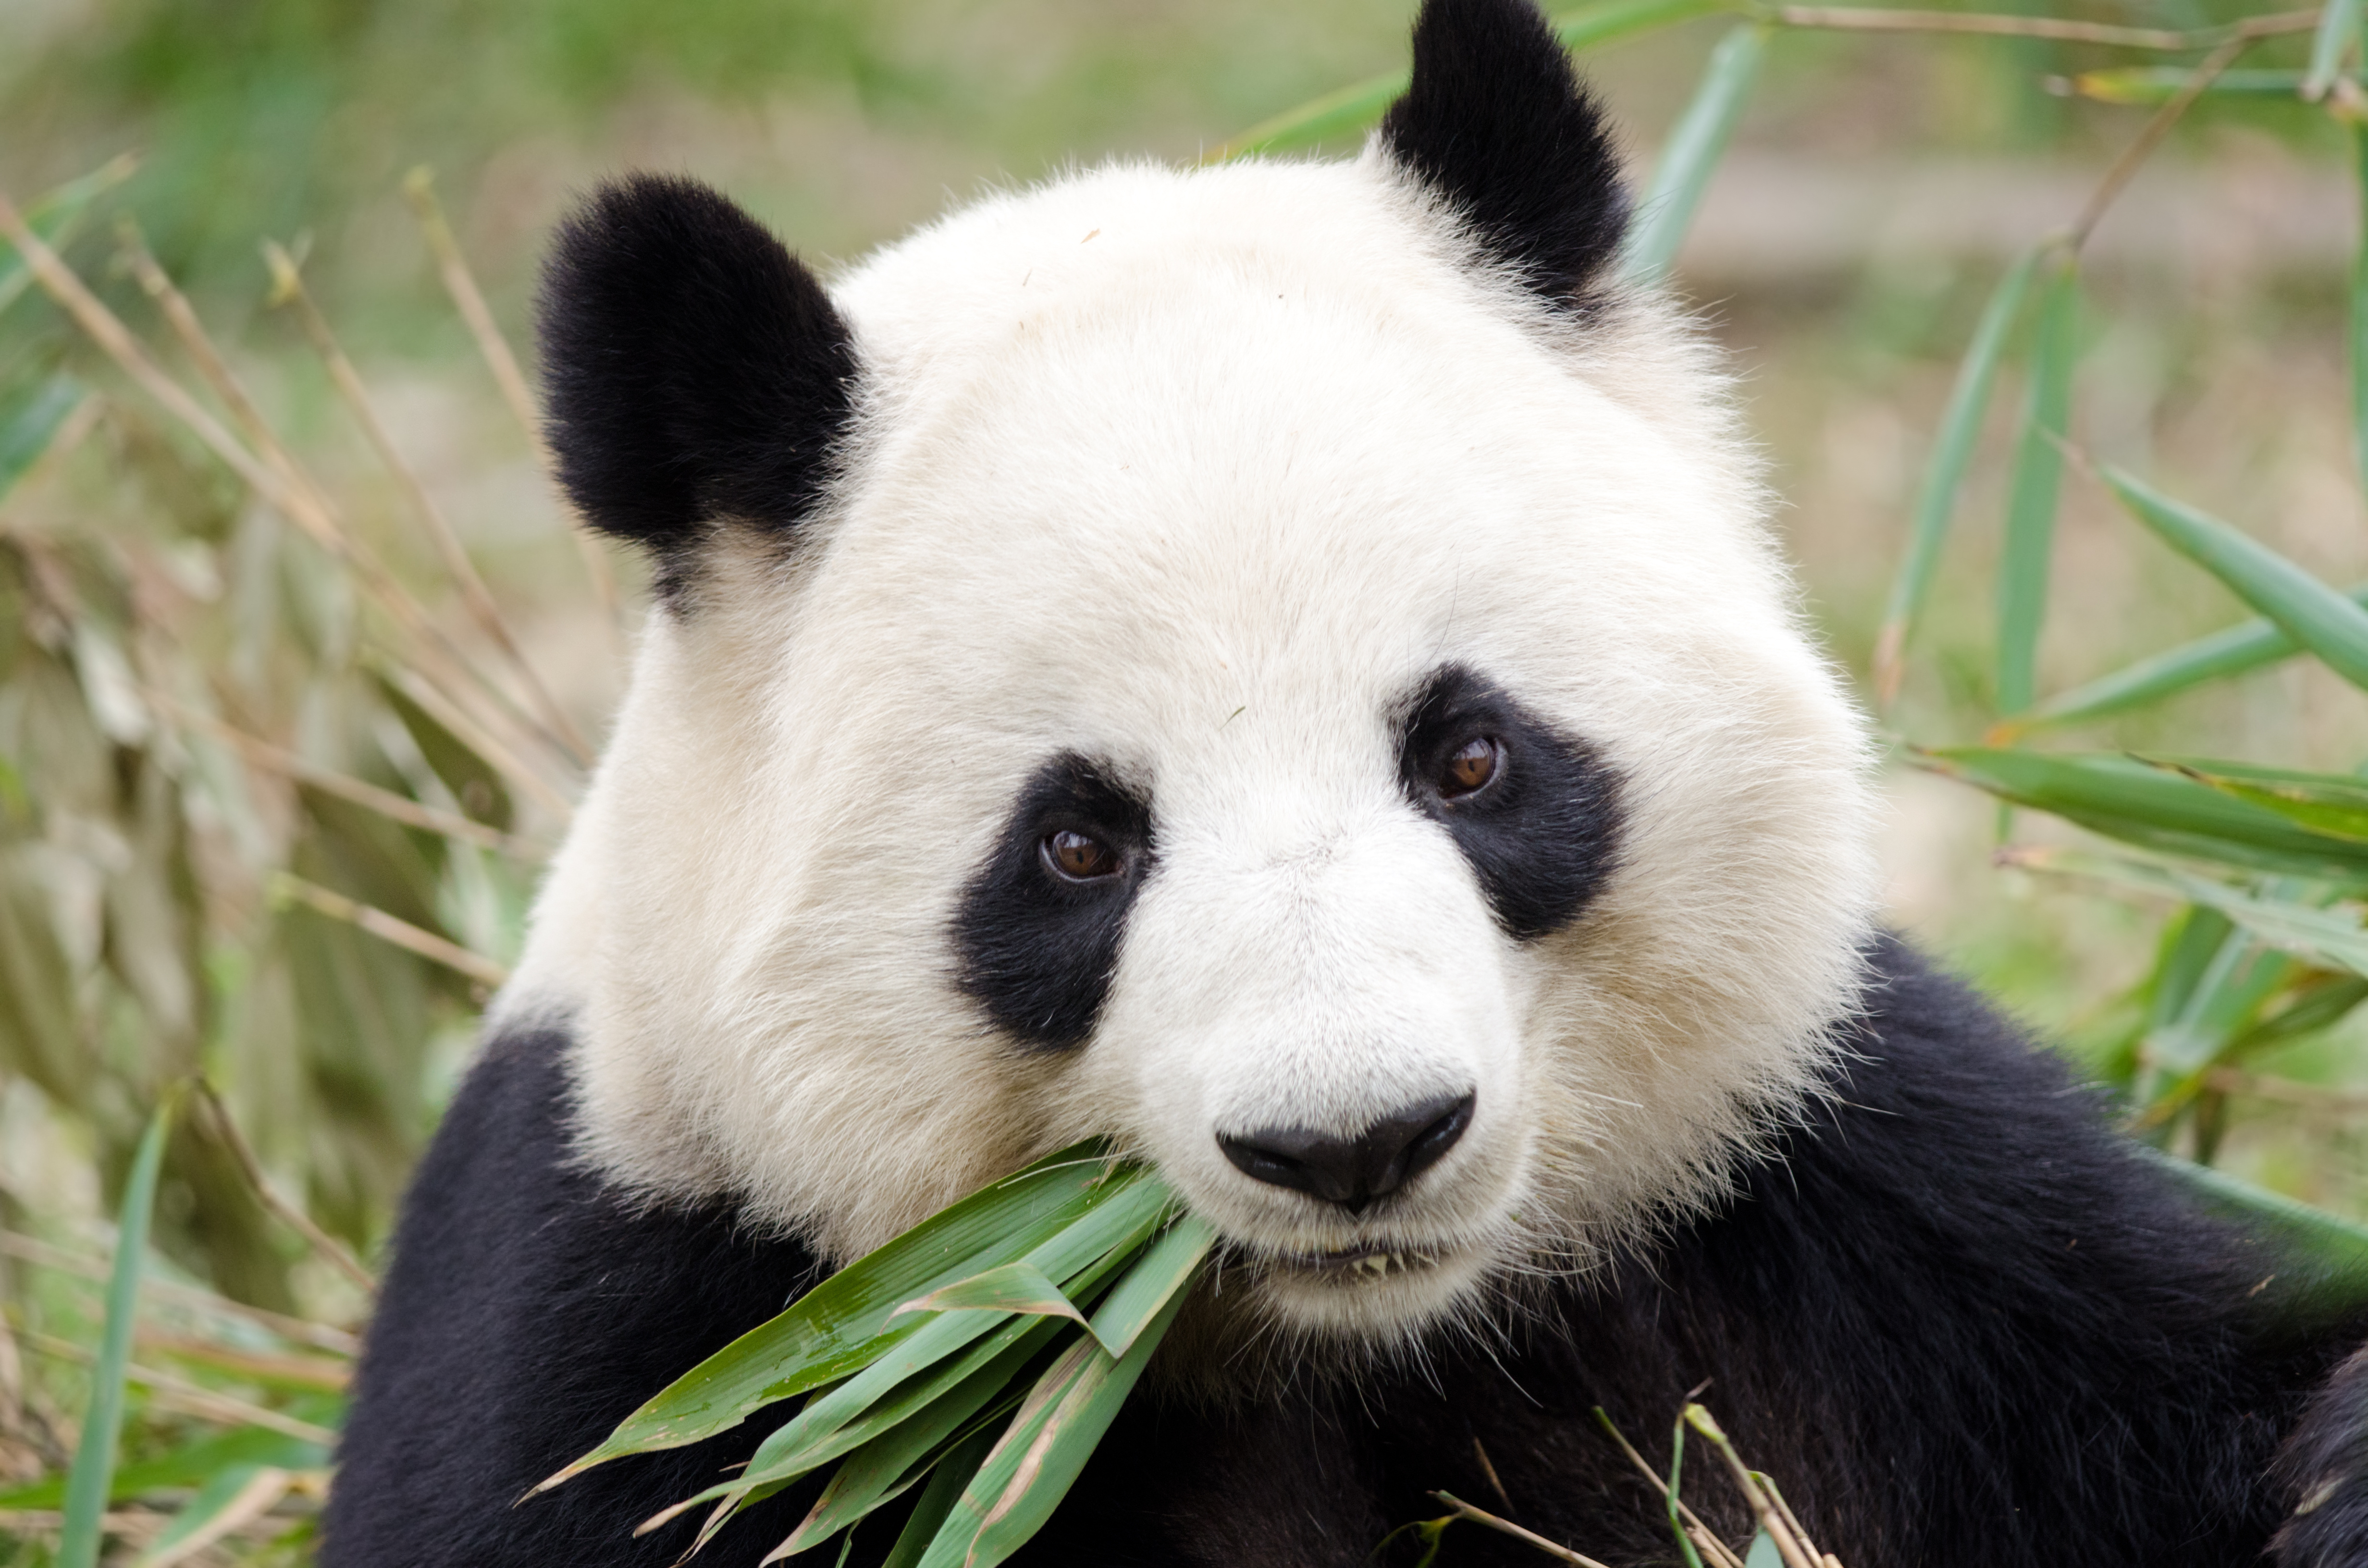panda: (404, 77, 2314, 1550)
